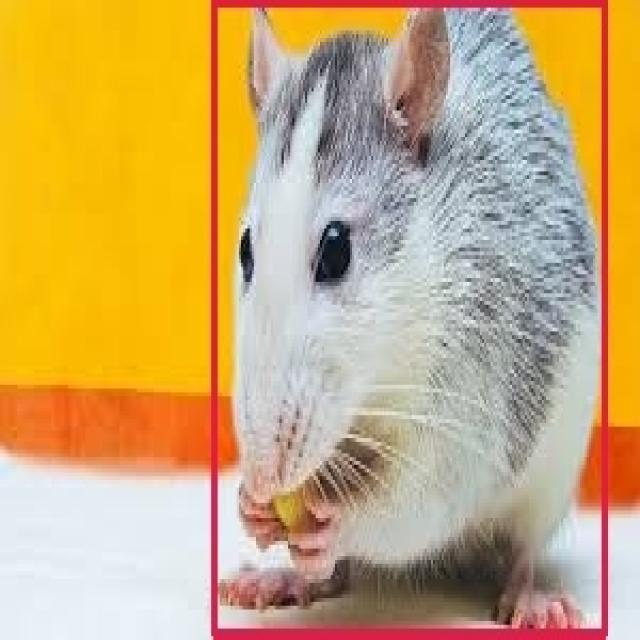rat: (214, 0, 605, 636)
